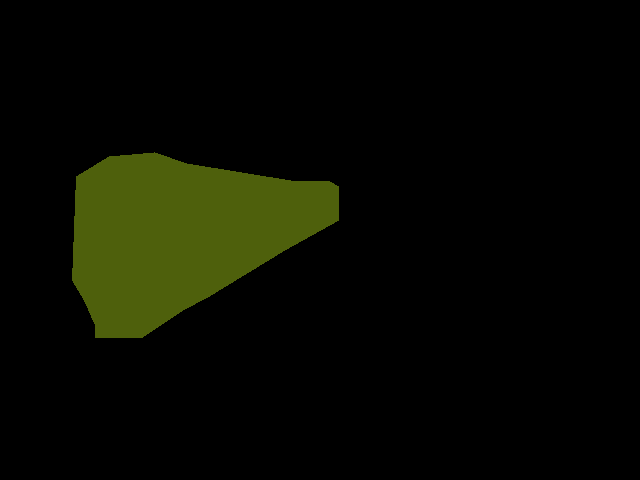Train: (72, 152, 338, 337)
